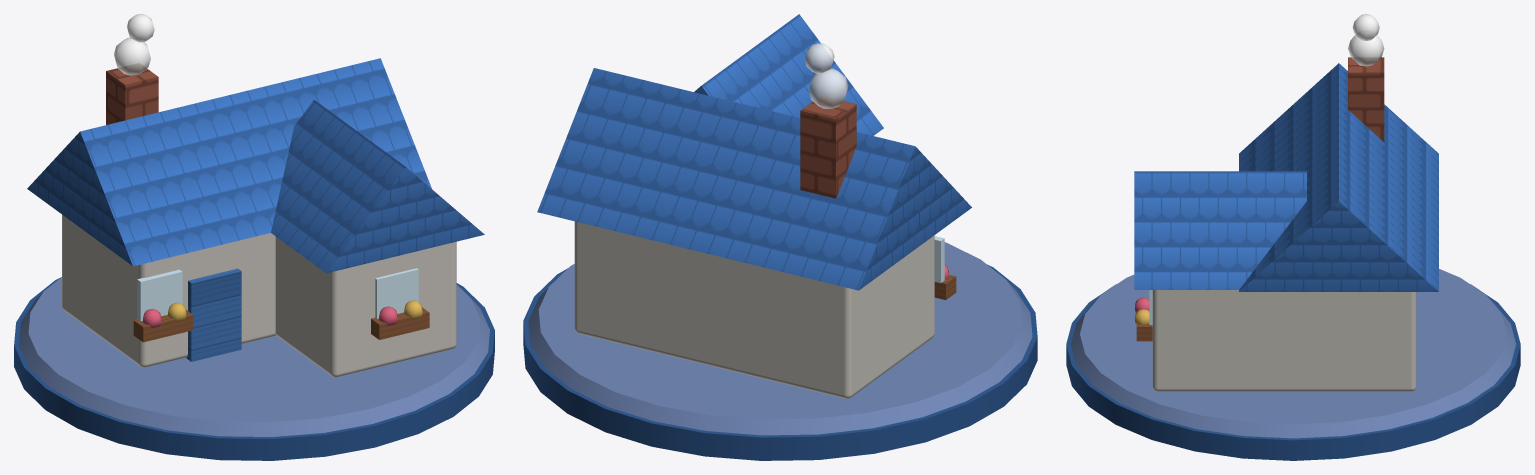
Rendered from tier-08-cozy-cottage.glb.
3 renders of one model, left to right at view 1: azimuth 30°, elevation 25°; view 2: azimuth 150°, elevation 25°; view 3: azimuth 270°, elevation 25°, orthographic. The views are drawn at different scales.
Parts seen in each view (by area): view 1: matte, roof, wood, gloss, brick, smoke; view 2: matte, roof, brick, smoke; view 3: matte, roof, brick, smoke.
Boxes of the visible parts, x1,y1,x2,y2 form: matte: (14, 214, 494, 460); roof: (27, 58, 484, 273); wood: (133, 268, 429, 361); gloss: (137, 268, 418, 320); brick: (106, 64, 158, 124); smoke: (114, 14, 154, 75); matte: (523, 221, 1037, 460); roof: (537, 14, 971, 290); brick: (800, 97, 856, 198); smoke: (804, 43, 848, 108); matte: (1066, 269, 1520, 460); roof: (1134, 63, 1438, 291); brick: (1348, 57, 1384, 141); smoke: (1348, 14, 1384, 66).
Size of the model in its own units: 1 by 0.765 by 1.
6 materials, 3 textured.
